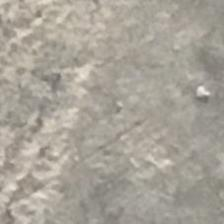Non_Crack: (95, 0, 224, 223)
